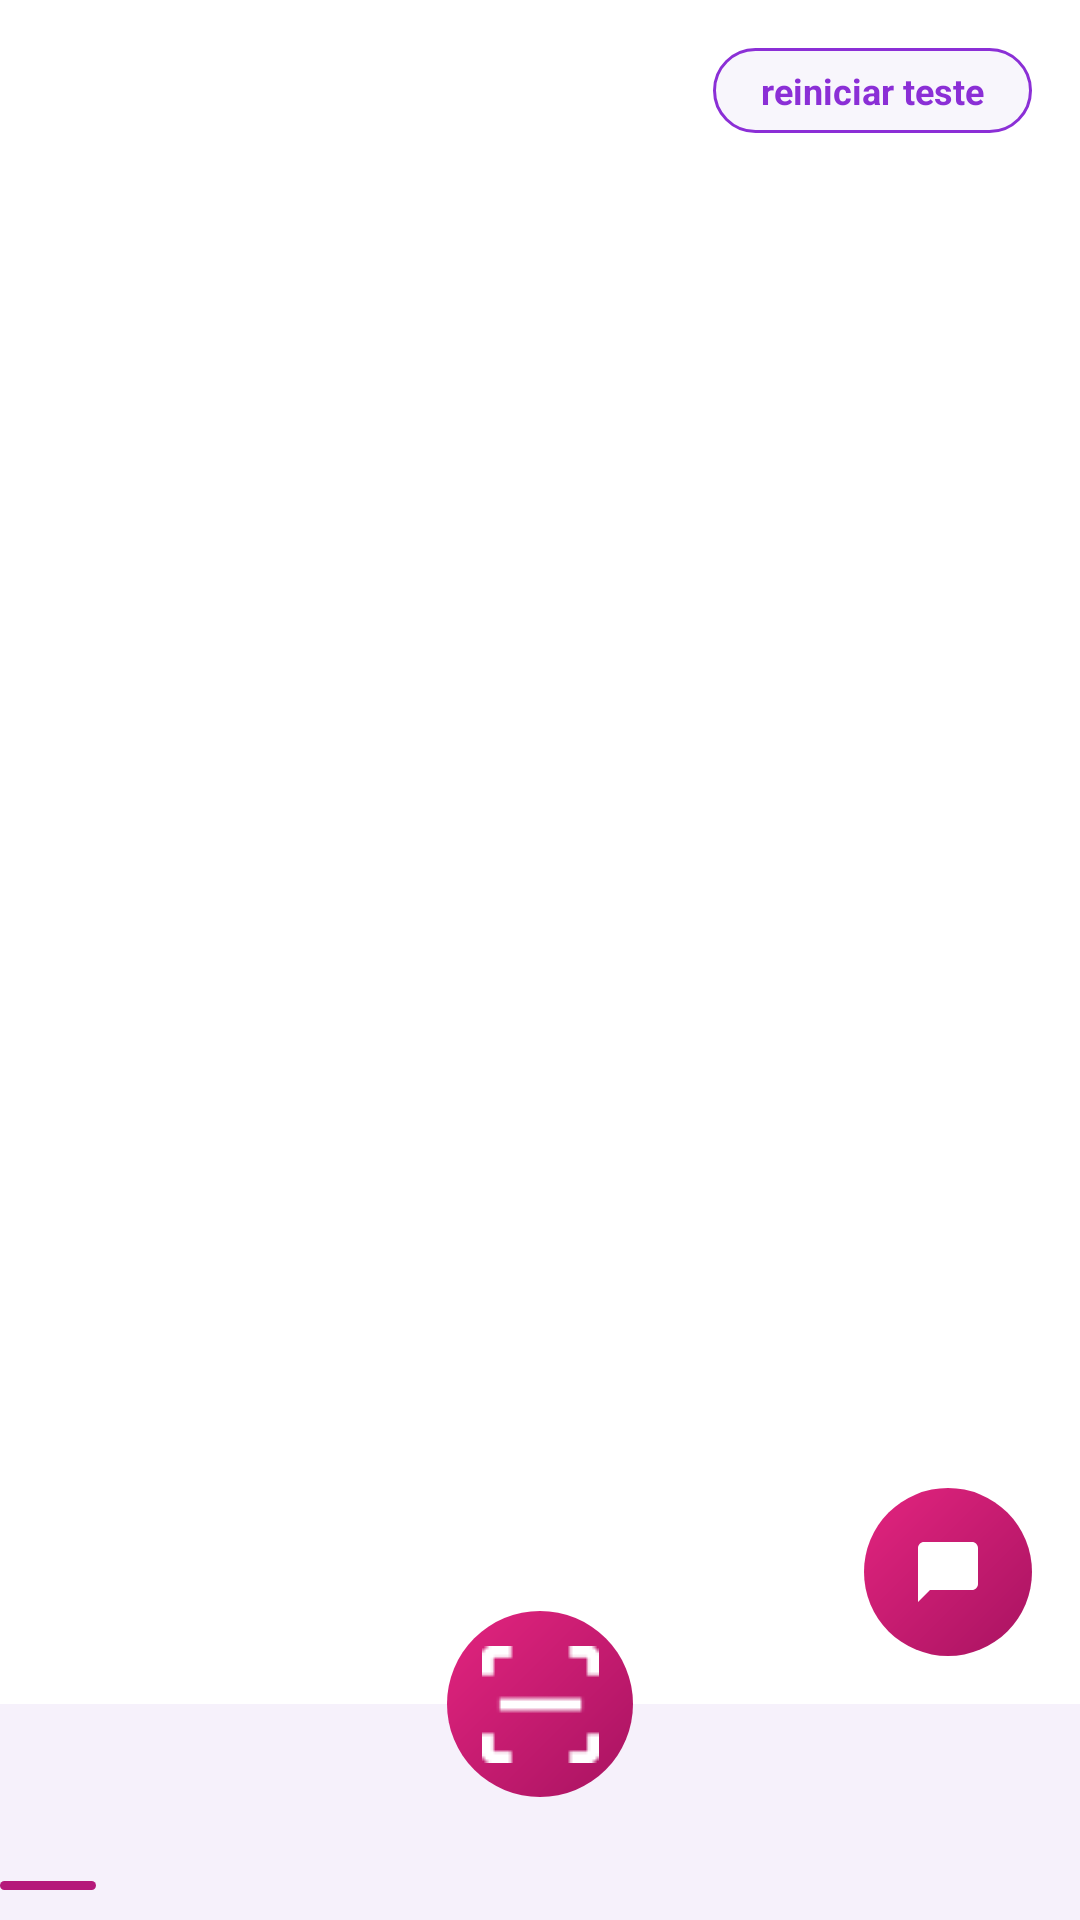

Icon click points for this 1080px×1920px phone screenshot, format (x,y):
Assistente: (948,1572)
Escanear: (540,1704)
